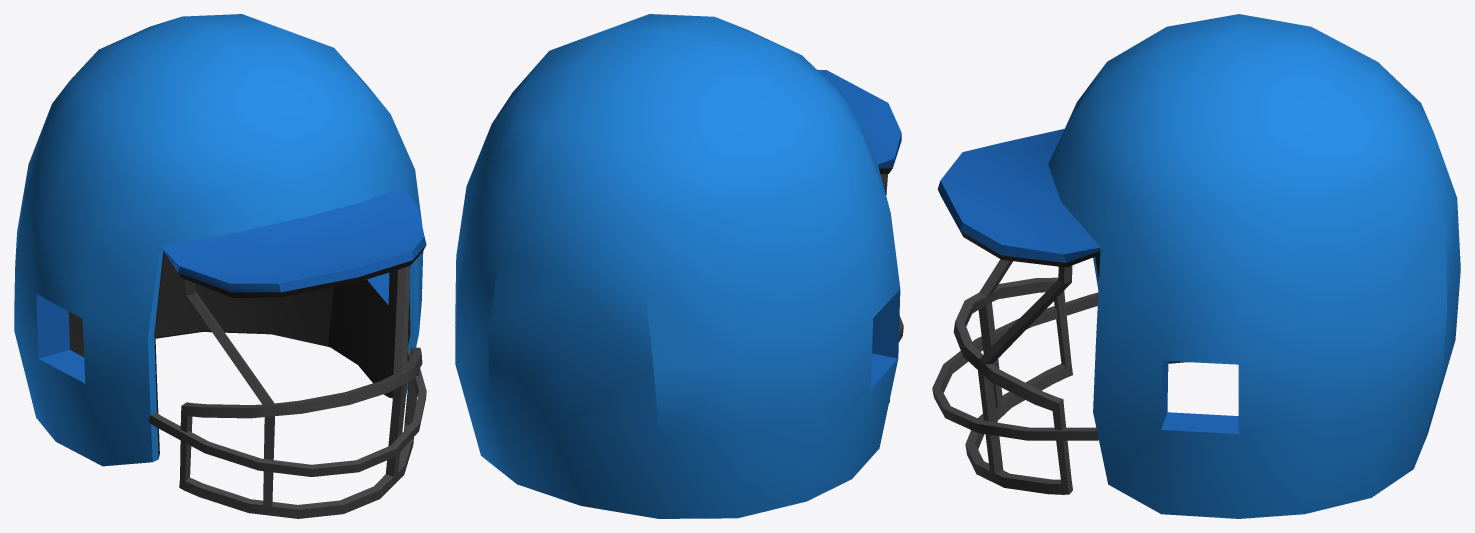
Rendered from hat_baseball.fbx.
3 renders of one model, left to right at view 1: azimuth 30°, elevation 25°; view 2: azimuth 150°, elevation 25°; view 3: azimuth 270°, elevation 25°, orthographic. The views are drawn at different scales.
Visible parts, largest first — view 1: hat_baseball; view 2: hat_baseball; view 3: hat_baseball.
Part boxes in pixels (x1=…): hat_baseball: x1=14, y1=14, x2=426, y2=518; hat_baseball: x1=455, y1=14, x2=903, y2=518; hat_baseball: x1=932, y1=14, x2=1460, y2=518.
Size of the model in its own units: 137 by 141 by 161.
